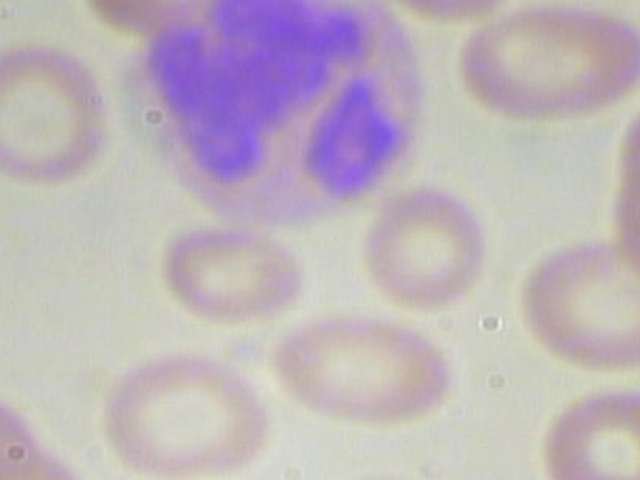RBC: (274, 301, 465, 435), (88, 349, 279, 480), (456, 6, 640, 120), (149, 217, 327, 327), (356, 175, 496, 312), (0, 31, 114, 195), (504, 233, 640, 369), (527, 383, 640, 480), (78, 0, 228, 36), (0, 387, 52, 480), (374, 0, 524, 31), (618, 86, 640, 215)
WBC: (119, 0, 442, 242)
